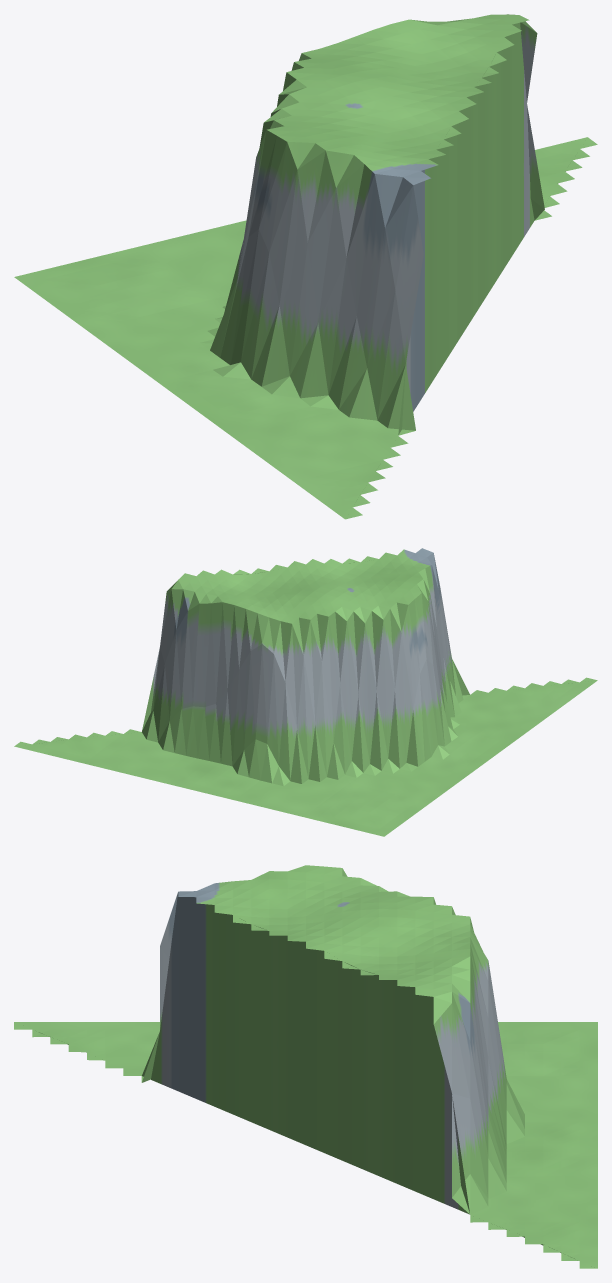
Rendered from Grass_RockyMountains_08_SW.obj.
3 renders of one model, top to bottom at view 1: azimuth 30°, elevation 25°; view 2: azimuth 150°, elevation 25°; view 3: azimuth 270°, elevation 25°, orthographic. The views are drawn at different scales.
Bounding box in the file's own units: 10 × 3.89 × 10.
1 material, 1 textured.
